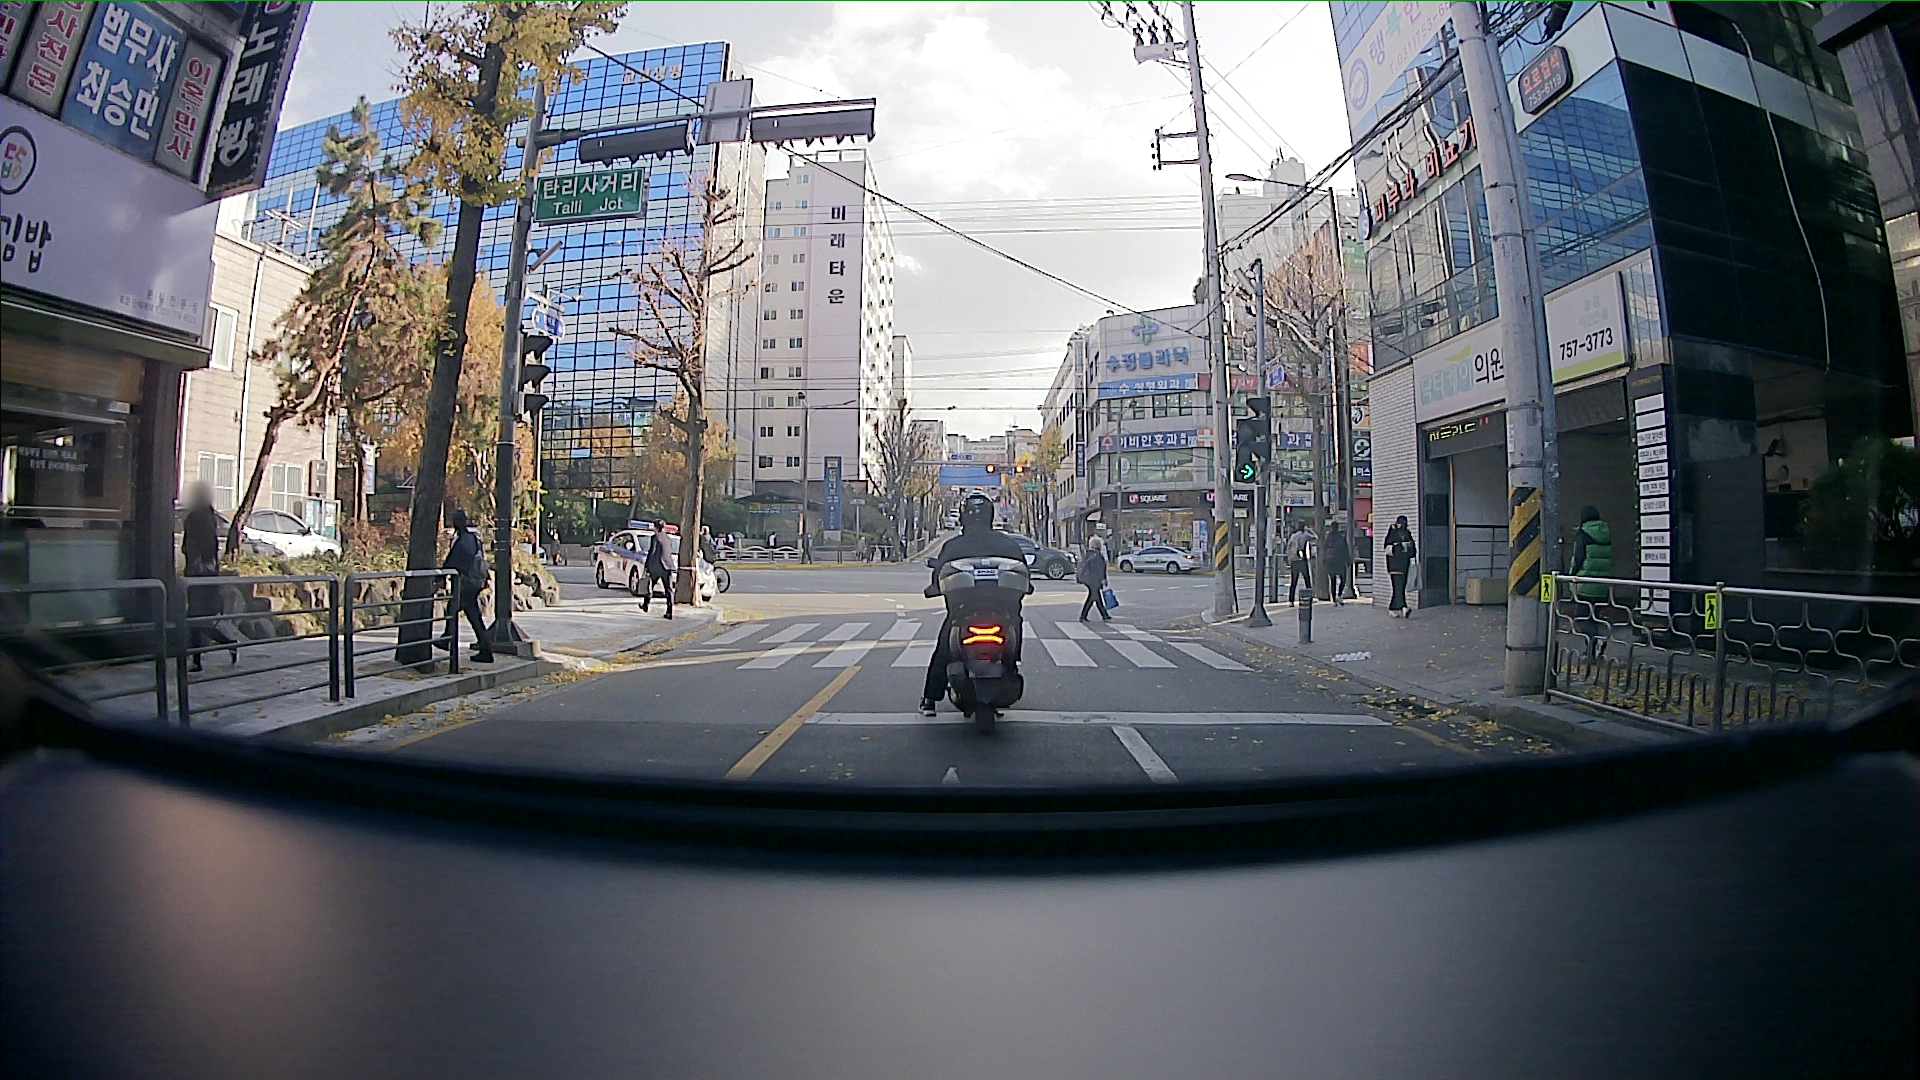trafficLight: (978, 462, 1038, 475)
trafficLightBar: (1230, 427, 1255, 488)
